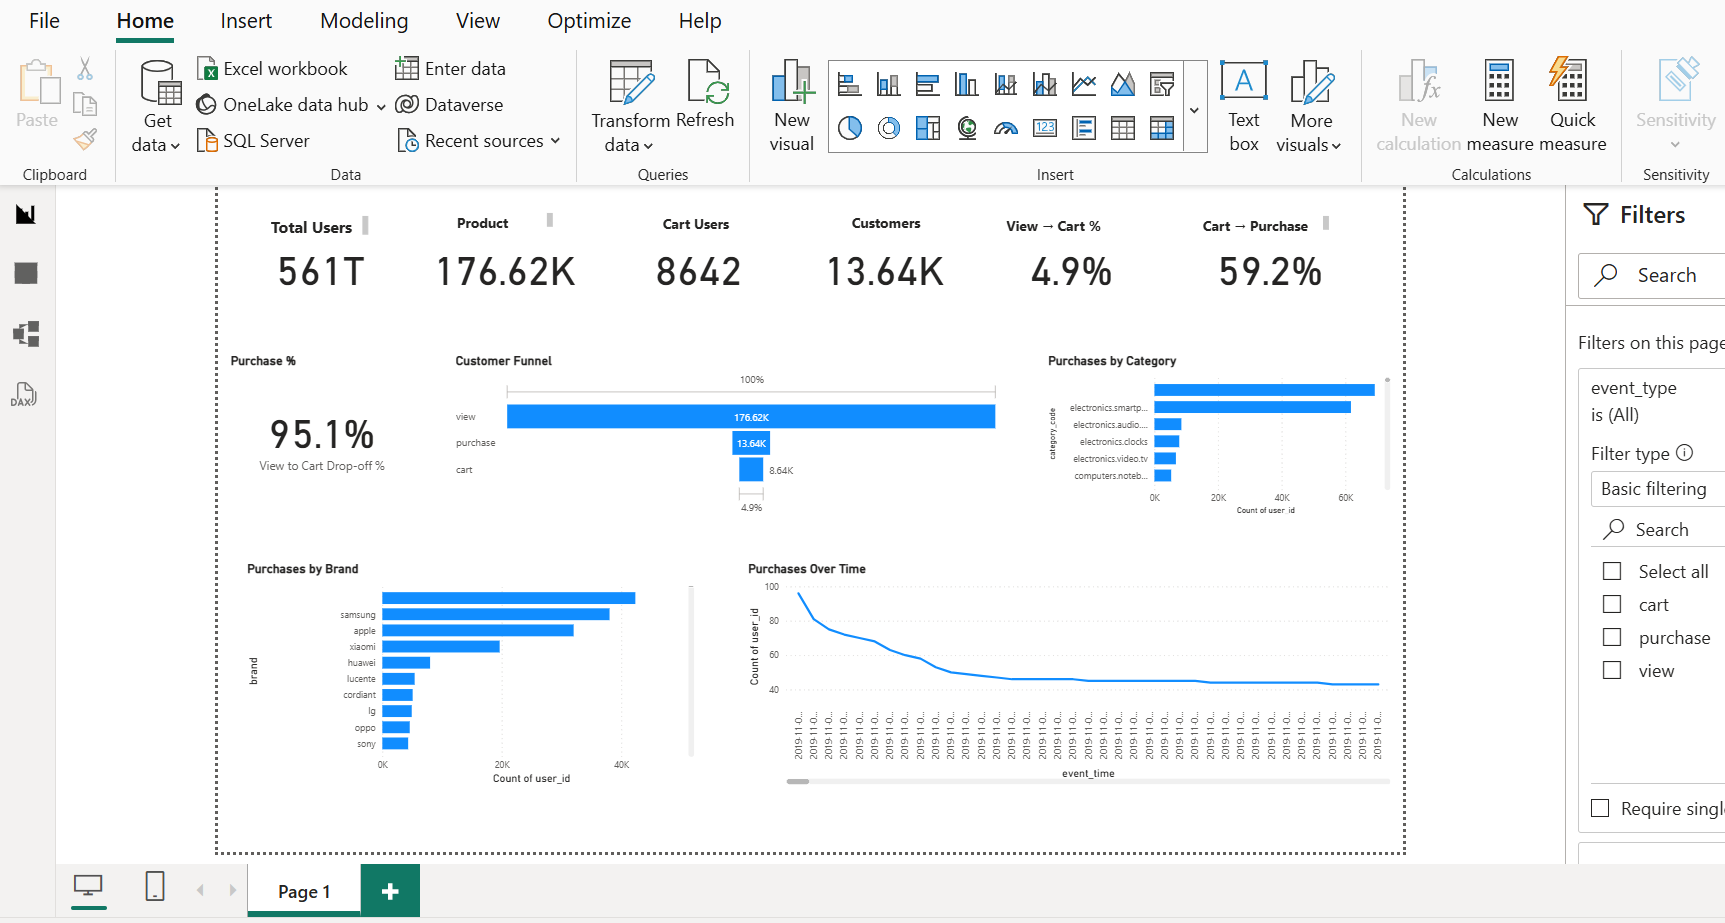

This screenshot's page, from the dashboard's own definition file:
{"tool":"powerbi","page":{"name":"Page 1","canvas":[1600,900],"ordinal":0},"visuals":[{"type":"card","fields":{"Values":["Sum(2019-csv.user_id)"]},"box":[11.3,19.4,251,176.5],"z":0},{"type":"card","fields":{"Values":["Count(2019-csv.user_id)"]},"box":[268.8,19.4,234.8,176.5],"z":1000},{"type":"card","fields":{"Values":["Count(2019-csv.user_id)"]},"box":[528.2,19.9,240.3,176.7],"z":2000},{"type":"card","fields":{"Values":["Count(2019-csv.user_id)"]},"box":[788.3,19.9,222.4,176.7],"z":3000},{"type":"textbox","box":[66.4,35.6,140.9,37.2],"z":4000},{"type":"textbox","box":[317.4,32.4,139.3,40.5],"z":5000},{"type":"textbox","box":[595.9,34,129.5,37.2],"z":6000},{"type":"textbox","box":[850.1,32.4,115,35.6],"z":7000},{"type":"card","fields":{"Values":["2019-csv.View to Cart Conversion %"]},"box":[1034.3,20.2,234.8,176.1],"z":8000},{"type":"card","fields":{"Values":["2019-csv.Cart to Purchase Conversion %"]},"box":[1293.4,20.2,251,176.1],"z":9000},{"type":"textbox","box":[1059,35.6,150.6,40.5],"z":10000},{"type":"textbox","box":[1323.7,36.4,180.1,40.5],"z":11000},{"type":"funnel","title":"Customer Funnel","fields":{"Category":["2019-csv.event_type"],"Y":["Count(2019-csv.user_id)"]},"box":[315.7,226.7,742.8,222.6],"z":12000},{"type":"clusteredBarChart","title":"Purchases by Category","fields":{"Category":["2019-csv.category_code"],"Y":["Count(2019-csv.user_id)"]},"box":[1115.2,226.7,471.6,222.6],"z":13000},{"type":"clusteredBarChart","title":"Purchases by Brand","fields":{"Category":["2019-csv.brand"],"Y":["Count(2019-csv.user_id)"]},"box":[34.7,508.8,613,305.3],"z":14000},{"type":"lineChart","title":"Purchases Over Time","fields":{"Category":["2019-csv.event_time"],"Y":["Count(2019-csv.user_id)"]},"box":[710.4,508,876.4,305.6],"z":15000},{"type":"card","title":"Purchase %","fields":{"Values":["2019-csv.View to Cart Drop-off %"]},"box":[12.4,225.9,255.6,206],"z":15001}]}

Visuals, with their boxes on the page's 1600x900 design canvas (x1, y1, x2, y2). These are canvas units, not pixel positions in the 1725x923 screenshot, which may show the page scaled, cropped or inside an application window:
card - Sum(2019-csv.user_id): bbox(11, 19, 262, 196)
card - Count(2019-csv.user_id): bbox(269, 19, 504, 196)
card - Count(2019-csv.user_id): bbox(528, 20, 768, 197)
card - Count(2019-csv.user_id): bbox(788, 20, 1011, 197)
textbox: bbox(66, 36, 207, 73)
textbox: bbox(317, 32, 457, 73)
textbox: bbox(596, 34, 725, 71)
textbox: bbox(850, 32, 965, 68)
card - 2019-csv.View to Cart Conversion %: bbox(1034, 20, 1269, 196)
card - 2019-csv.Cart to Purchase Conversion %: bbox(1293, 20, 1544, 196)
textbox: bbox(1059, 36, 1210, 76)
textbox: bbox(1324, 36, 1504, 77)
"Customer Funnel" funnel: bbox(316, 227, 1058, 449)
"Purchases by Category" clusteredBarChart: bbox(1115, 227, 1587, 449)
"Purchases by Brand" clusteredBarChart: bbox(35, 509, 648, 814)
"Purchases Over Time" lineChart: bbox(710, 508, 1587, 814)
"Purchase %" card: bbox(12, 226, 268, 432)
